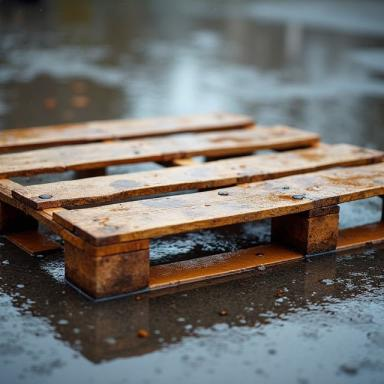pallet: (0, 110, 384, 300)
